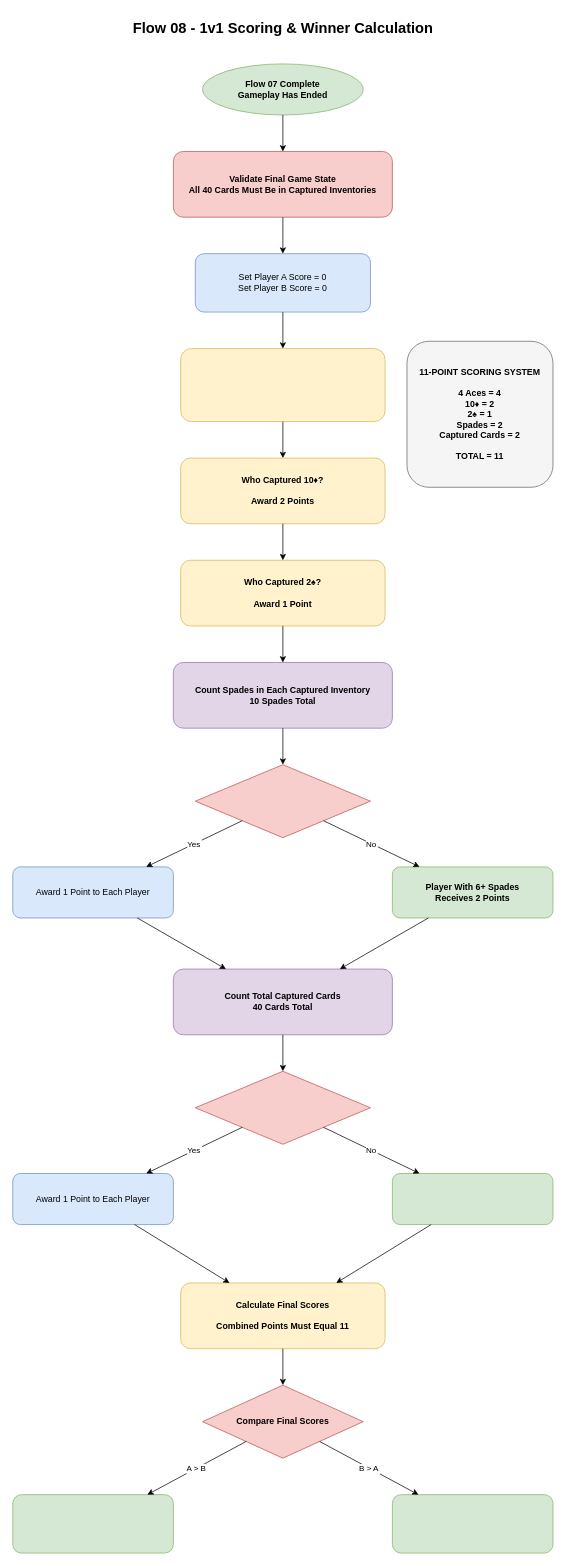
The diagram is 566 pixels wide and 1566 high, and some of its shapes have lost their labels. The shapes that lost their labels are listed below. From the top down, each one's box as (x1, y1, x2, y2) in pixels, then its label:
(180, 348, 385, 422): Score the 4 Aces Each Ace = 1 Point 4 Points Total
(195, 764, 370, 838): Spades Split 5 - 5?
(195, 1071, 370, 1144): Captured Cards Split 20 - 20?
(392, 1173, 553, 1225): Player With 21+ Cards Receives 2 Points
(12, 1494, 173, 1553): Player A Has More Points Player A Wins
(392, 1494, 553, 1553): Player B Has More Points Player B Wins
